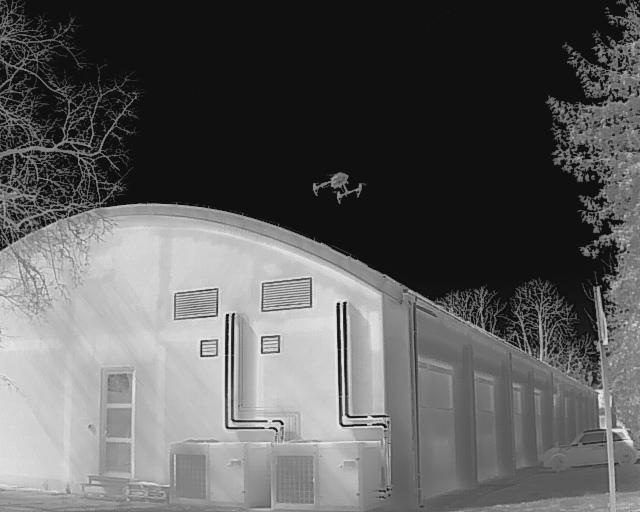drone: (307, 167, 369, 211)
